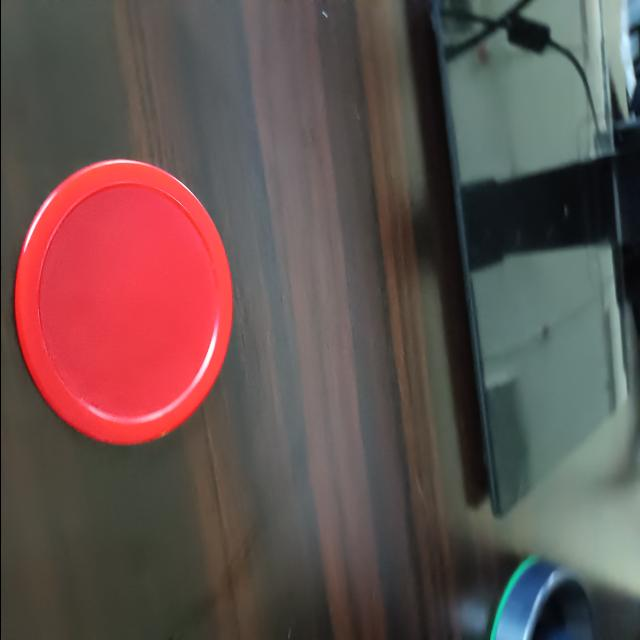chip: (12, 160, 236, 448)
